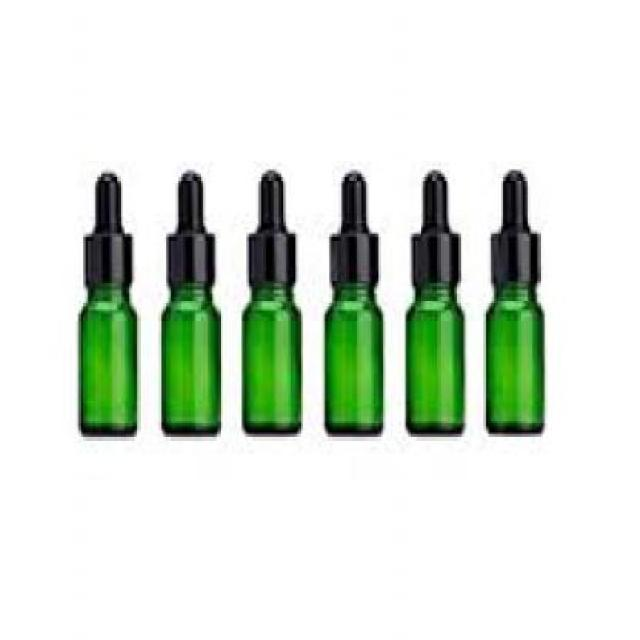kaca: (403, 280, 462, 434), (323, 280, 382, 434), (77, 283, 135, 434), (485, 280, 543, 429), (160, 280, 218, 429), (240, 283, 298, 431)
